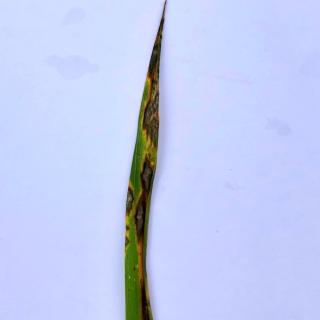Blast: (144, 35, 162, 89), (132, 192, 149, 247), (132, 193, 149, 244), (138, 152, 156, 194), (140, 92, 160, 127), (140, 260, 151, 320), (123, 185, 136, 218), (148, 116, 160, 150)
